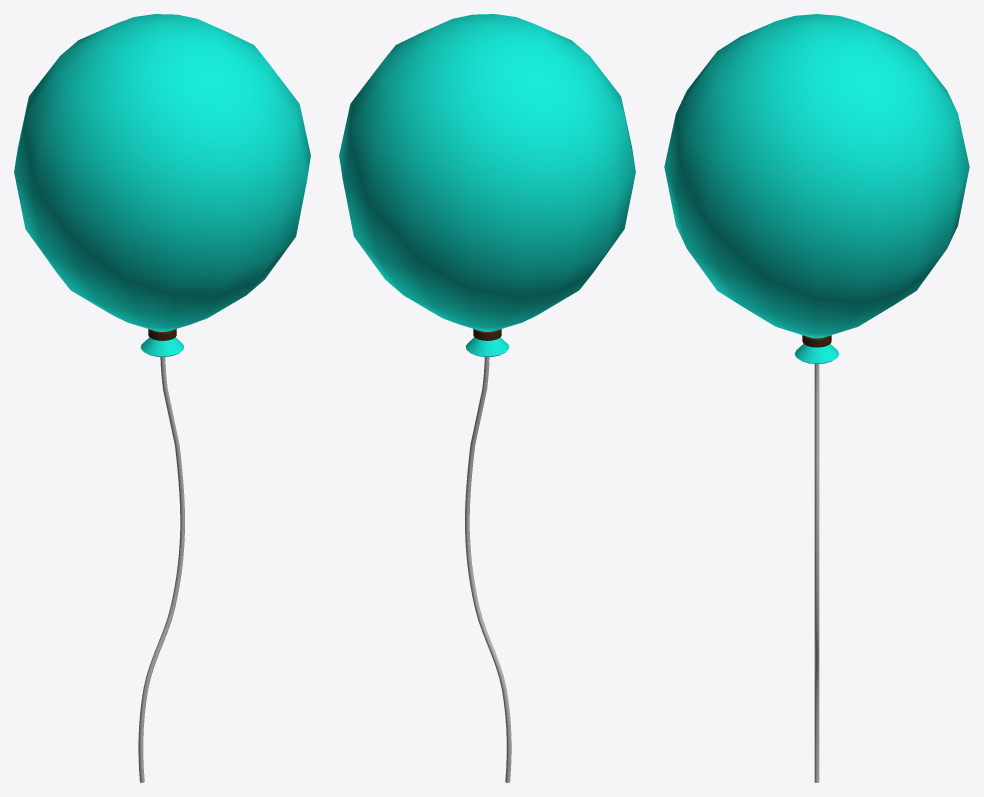
The model's file is Balloon_Mint.FBX.
3 views of the same model, side by side, from view 1: azimuth 30°, elevation 25°; view 2: azimuth 150°, elevation 25°; view 3: azimuth 270°, elevation 25° (orthographic).
Visible parts, largest first — view 1: Sphere001; view 2: Sphere001; view 3: Sphere001.
Boxes of the visible parts, x1,y1,x2,y2 form: Sphere001: (14, 14, 310, 782); Sphere001: (339, 14, 635, 782); Sphere001: (664, 14, 969, 782).
Bounding box in the file's own units: 62.15 × 172 × 62.15.
